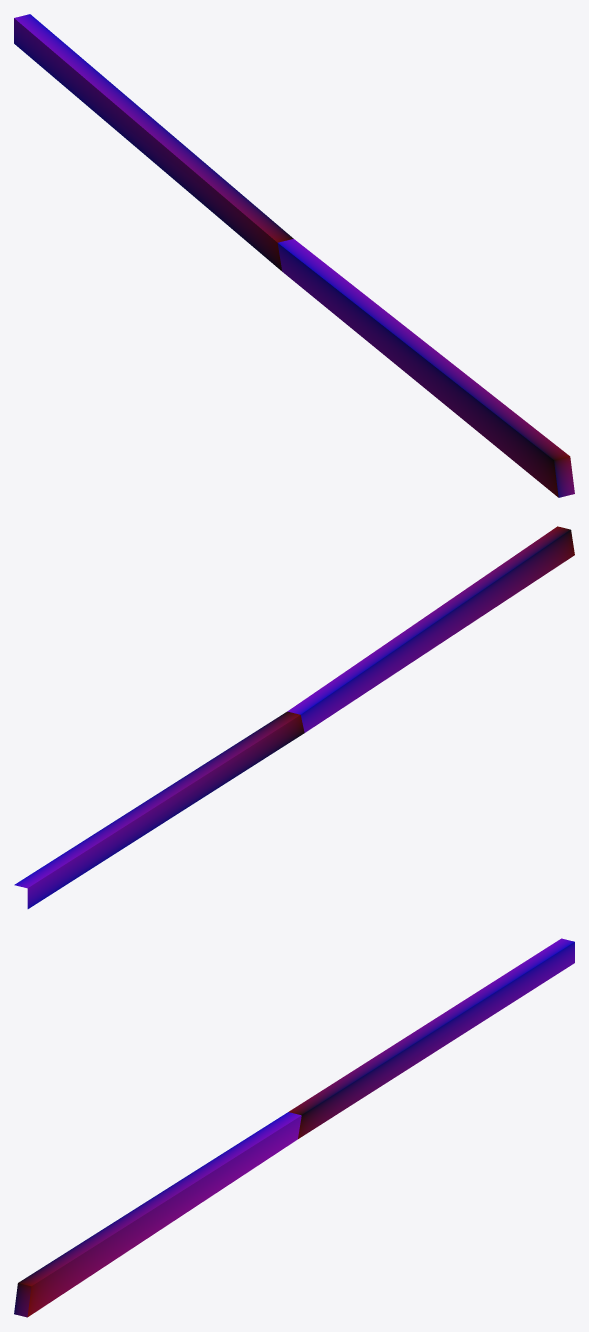
The picture shows the model from 3 angles, top to bottom: view 1: azimuth 30°, elevation 25°; view 2: azimuth 150°, elevation 25°; view 3: azimuth 330°, elevation 25°; orthographic projection. The views are drawn at different scales.
Parts seen in each view (by area): view 1: model_2CD3; view 2: model_2CD3; view 3: model_2CD3.
Part boxes in pixels (x1,y1,x2,y2): model_2CD3: [14, 14, 574, 497]; model_2CD3: [14, 526, 574, 908]; model_2CD3: [14, 938, 574, 1317].
Size of the model in its own units: 9.07 by 4.03 by 129.
